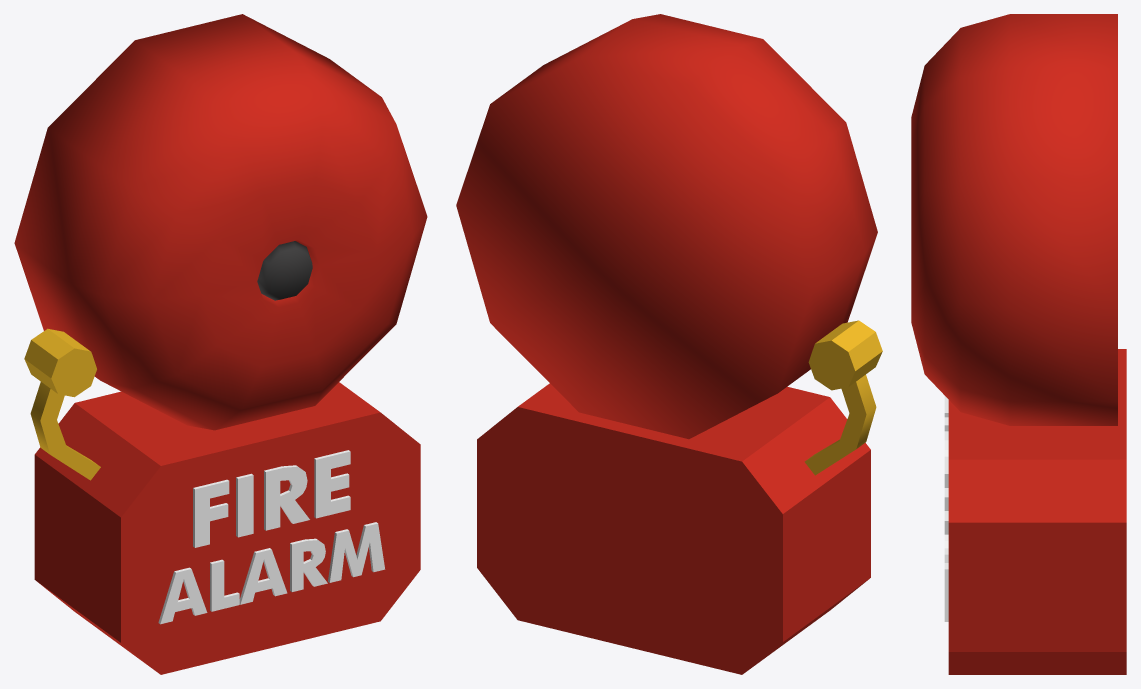
The model's file is mesh_firealarm.fbx.
3 renders of one model, left to right at view 1: azimuth 30°, elevation 25°; view 2: azimuth 150°, elevation 25°; view 3: azimuth 270°, elevation 25°, orthographic. The views are drawn at different scales.
Parts seen in each view (by area): view 1: mesh_firealarm_01; view 2: mesh_firealarm_01; view 3: mesh_firealarm_01.
Boxes of the visible parts, left/top/right/bottom form: mesh_firealarm_01: left=14, top=14, right=427, bottom=674; mesh_firealarm_01: left=456, top=14, right=882, bottom=674; mesh_firealarm_01: left=911, top=14, right=1126, bottom=674.
Size of the model in its own units: 8.58 by 12.53 by 4.22.
